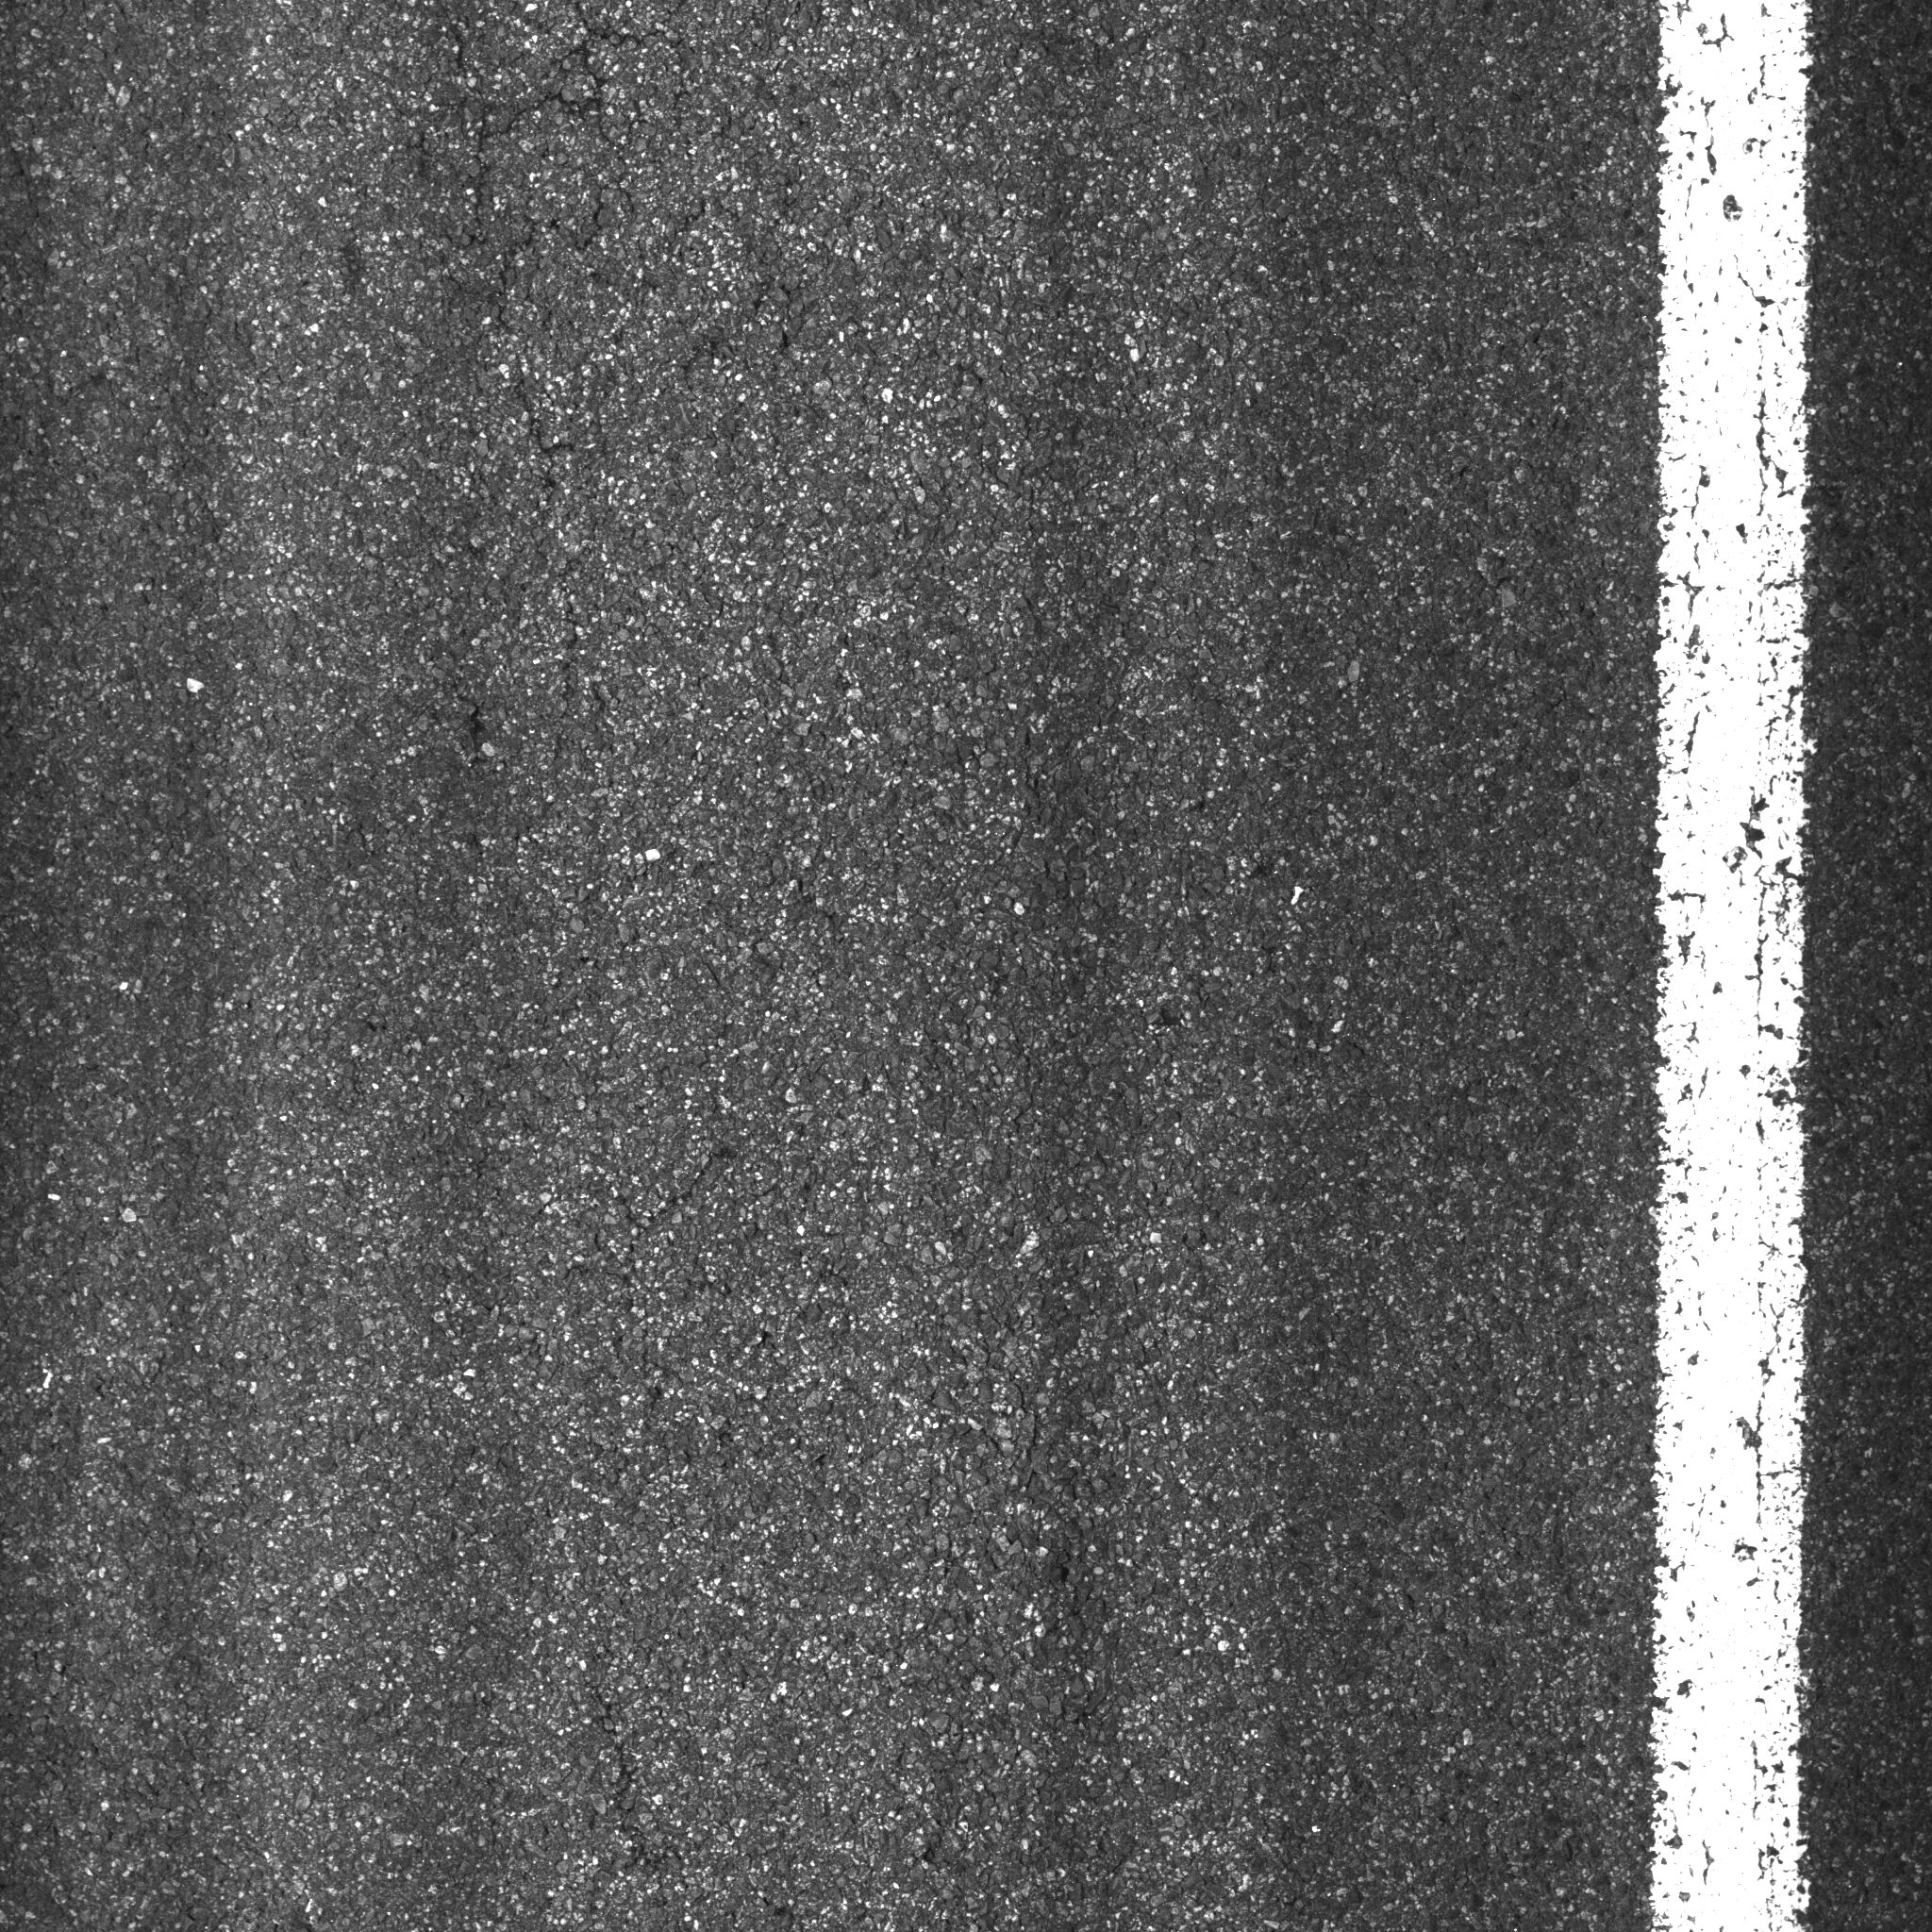alligator: (356, 5, 837, 548)
